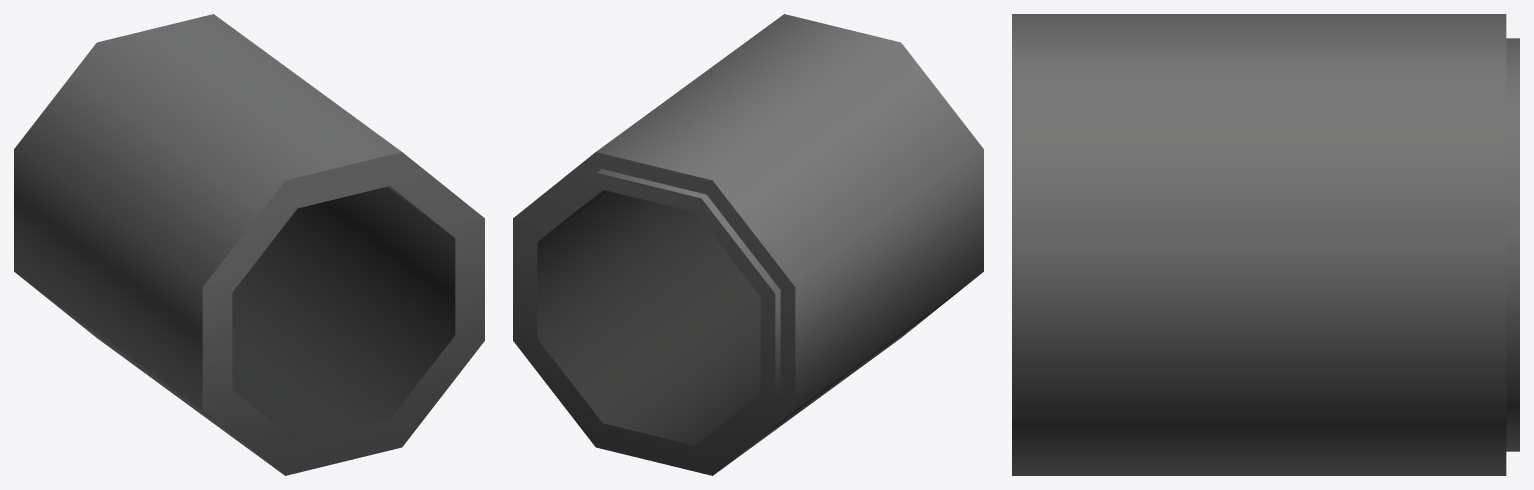
File: Pipe_C_4_1.fbx
3 views of the same model, side by side, from view 1: azimuth 30°, elevation 25°; view 2: azimuth 150°, elevation 25°; view 3: azimuth 270°, elevation 25° (orthographic). The views are drawn at different scales.
Parts seen in each view (by area): view 1: Pipe_C_4_1; view 2: Pipe_C_4_1; view 3: Pipe_C_4_1.
Part boxes in pixels (bbox=[...]): Pipe_C_4_1: bbox=[14, 14, 484, 475]; Pipe_C_4_1: bbox=[513, 14, 983, 475]; Pipe_C_4_1: bbox=[1012, 14, 1519, 475].
Size of the model in its own units: 114 by 114 by 136.
